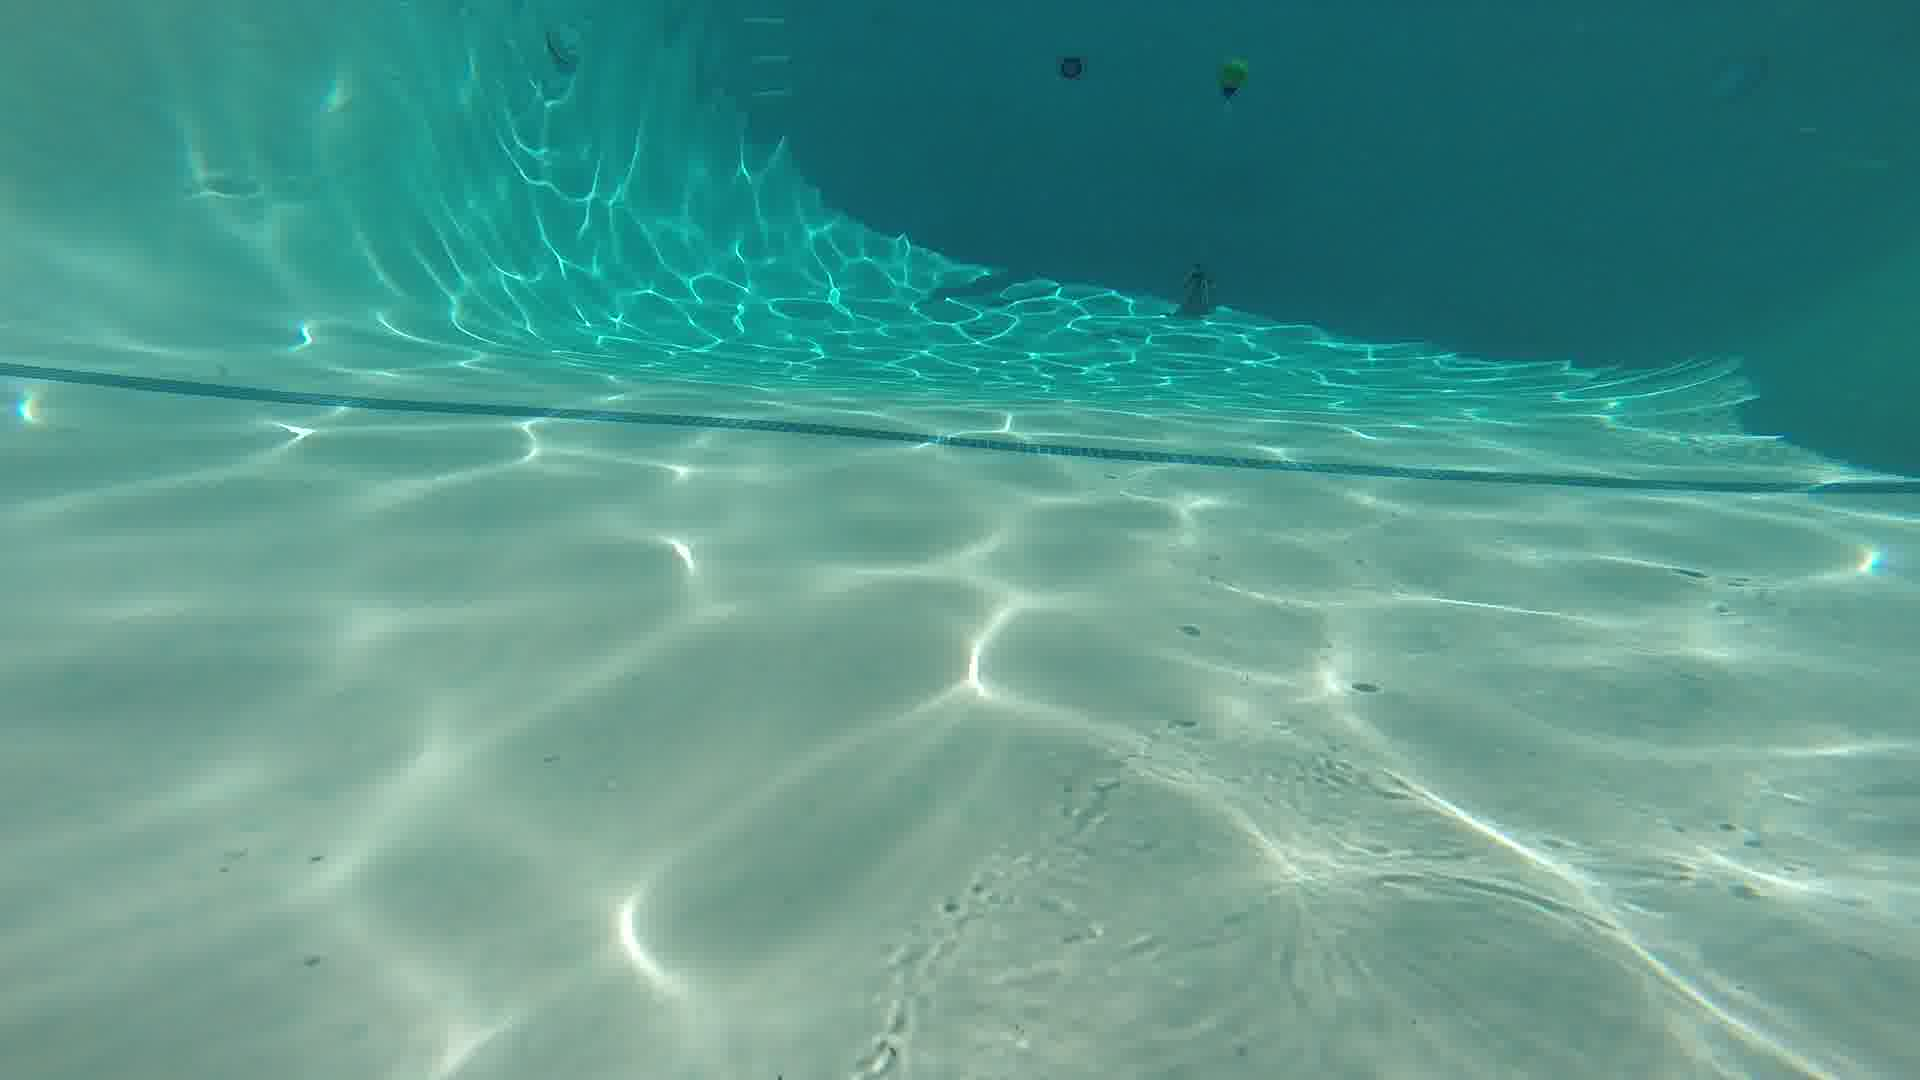yellow_buoy: (1217, 55, 1246, 100)
